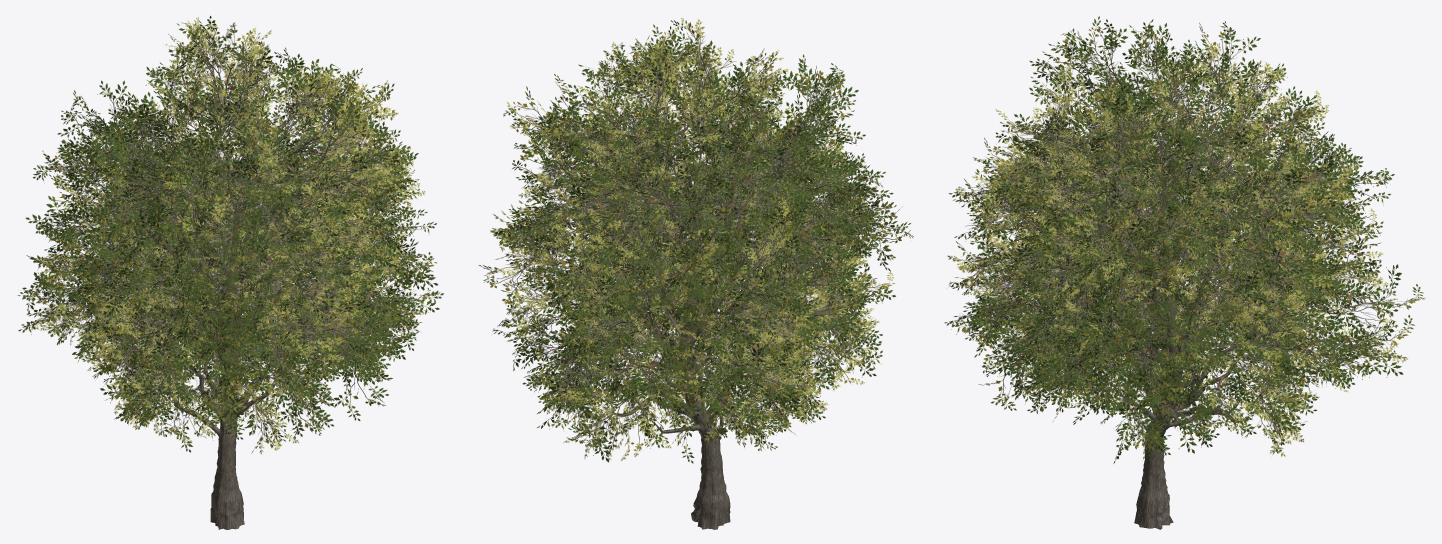
Rendered from Oak.glb.
3 views of the same model, side by side, from view 1: azimuth 30°, elevation 25°; view 2: azimuth 150°, elevation 25°; view 3: azimuth 270°, elevation 25° (orthographic). The views are drawn at different scales.
Visible parts, largest first — view 1: Oak; view 2: Oak; view 3: Oak.
Boxes of the visible parts, bbox=[...] form: Oak: bbox=[17, 16, 443, 529]; Oak: bbox=[478, 17, 913, 529]; Oak: bbox=[944, 16, 1425, 529].
Bounding box in the file's own units: 12.02 × 14.68 × 13.37.
5 materials, 5 textured.
